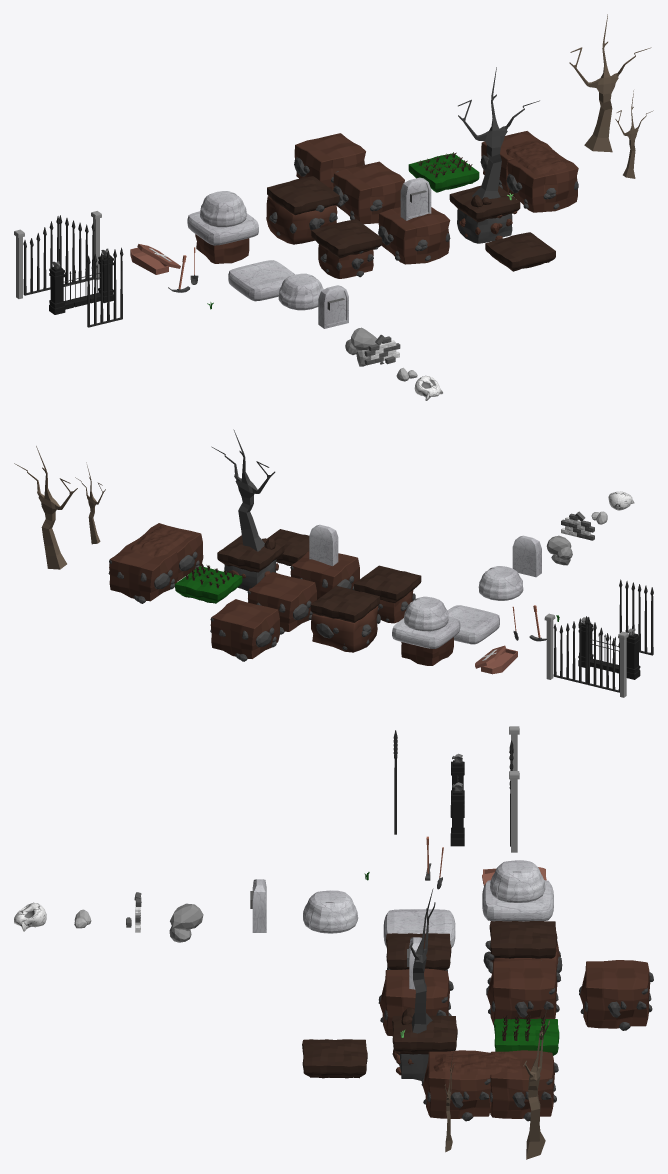
Rendered from graveyard.fbx.
3 renders of one model, top to bottom at view 1: azimuth 30°, elevation 25°; view 2: azimuth 150°, elevation 25°; view 3: azimuth 270°, elevation 25°, orthographic. The views are drawn at different scales.
Parts seen in each view (by area): view 1: Plane.001, groundDirt2.001, TombStoneGround, SmallGroundBlock, block.020, brown2.016, dirtGround2, Gate.001, brown2.001, StatueFence.001, StoneBlock, dirtGround (+9 smaller); view 2: Plane.001, SmallGroundBlock, groundDirt2.001, block.020, brown2.001, Gate.001, TombStoneGround, brown2.016, dirtGround2, deadGrassGround, StatueFence.001, largeTree (+9 smaller); view 3: Plane.001, brown2.001, groundDirt2.001, brown2.016, block.020, TombStoneGround, SmallGroundBlock, dirtGround, deadGrassGround, StoneAtTop, dirtGround2, StoneBlock (+6 smaller).
Boxes of the visible parts, <box> form: Plane.001: <box>480,131,578,212</box>; groundDirt2.001: <box>449,67,539,243</box>; TombStoneGround: <box>378,177,450,264</box>; SmallGroundBlock: <box>266,176,343,244</box>; block.020: <box>187,191,258,263</box>; brown2.016: <box>333,161,404,224</box>; dirtGround2: <box>311,219,381,278</box>; Gate.001: <box>14,211,101,298</box>; brown2.001: <box>294,133,365,190</box>; StatueFence.001: <box>49,248,113,314</box>; StoneBlock: <box>228,260,294,301</box>; dirtGround: <box>485,232,555,271</box>; Plane.001: <box>108,523,203,603</box>; SmallGroundBlock: <box>310,586,380,652</box>; groundDirt2.001: <box>211,429,284,591</box>; block.020: <box>392,596,460,665</box>; brown2.001: <box>210,599,279,661</box>; Gate.001: <box>544,613,628,697</box>; TombStoneGround: <box>290,524,359,599</box>; brown2.016: <box>247,572,316,634</box>; dirtGround2: <box>354,565,421,623</box>; deadGrassGround: <box>175,563,242,603</box>; StatueFence.001: <box>578,617,640,679</box>; largeTree: <box>14,446,77,569</box>; Plane.001: <box>421,1050,558,1121</box>; brown2.001: <box>579,960,653,1030</box>; groundDirt2.001: <box>392,888,457,1080</box>; brown2.016: <box>486,960,560,1025</box>; block.020: <box>482,860,553,921</box>; TombStoneGround: <box>378,937,453,1036</box>; SmallGroundBlock: <box>483,921,562,984</box>; dirtGround: <box>302,1039,367,1078</box>; deadGrassGround: <box>494,1015,559,1055</box>; StoneAtTop: <box>303,890,358,933</box>; dirtGround2: <box>386,933,451,973</box>; StoneBlock: <box>383,909,455,947</box>.
Size of the model in its own units: 36.68 by 8.98 by 26.67.
